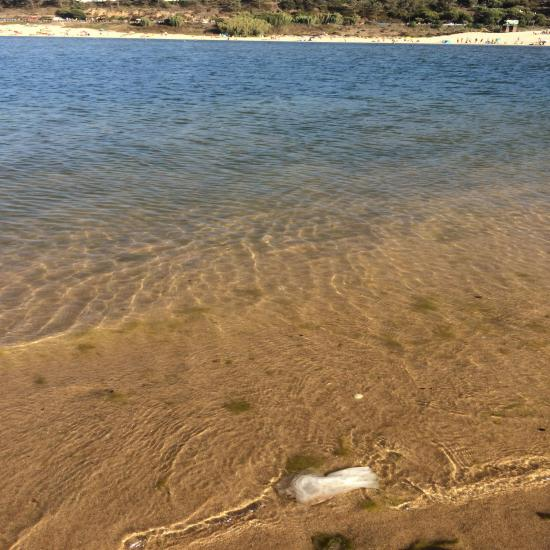Tissues: (275, 467, 381, 508)
